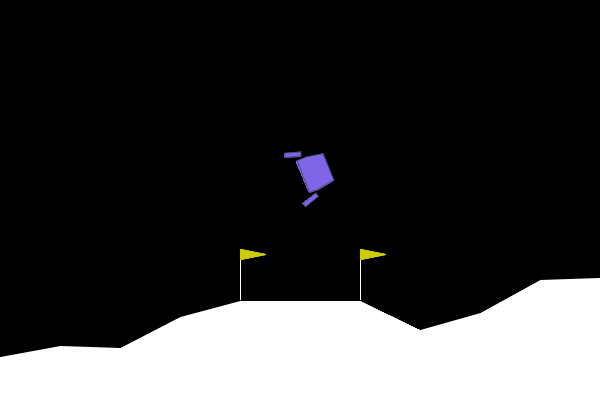lander: (282, 138, 341, 209)
